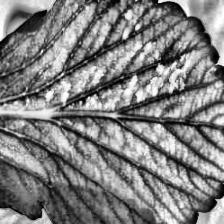Angular Leafspot: (40, 0, 204, 113)
